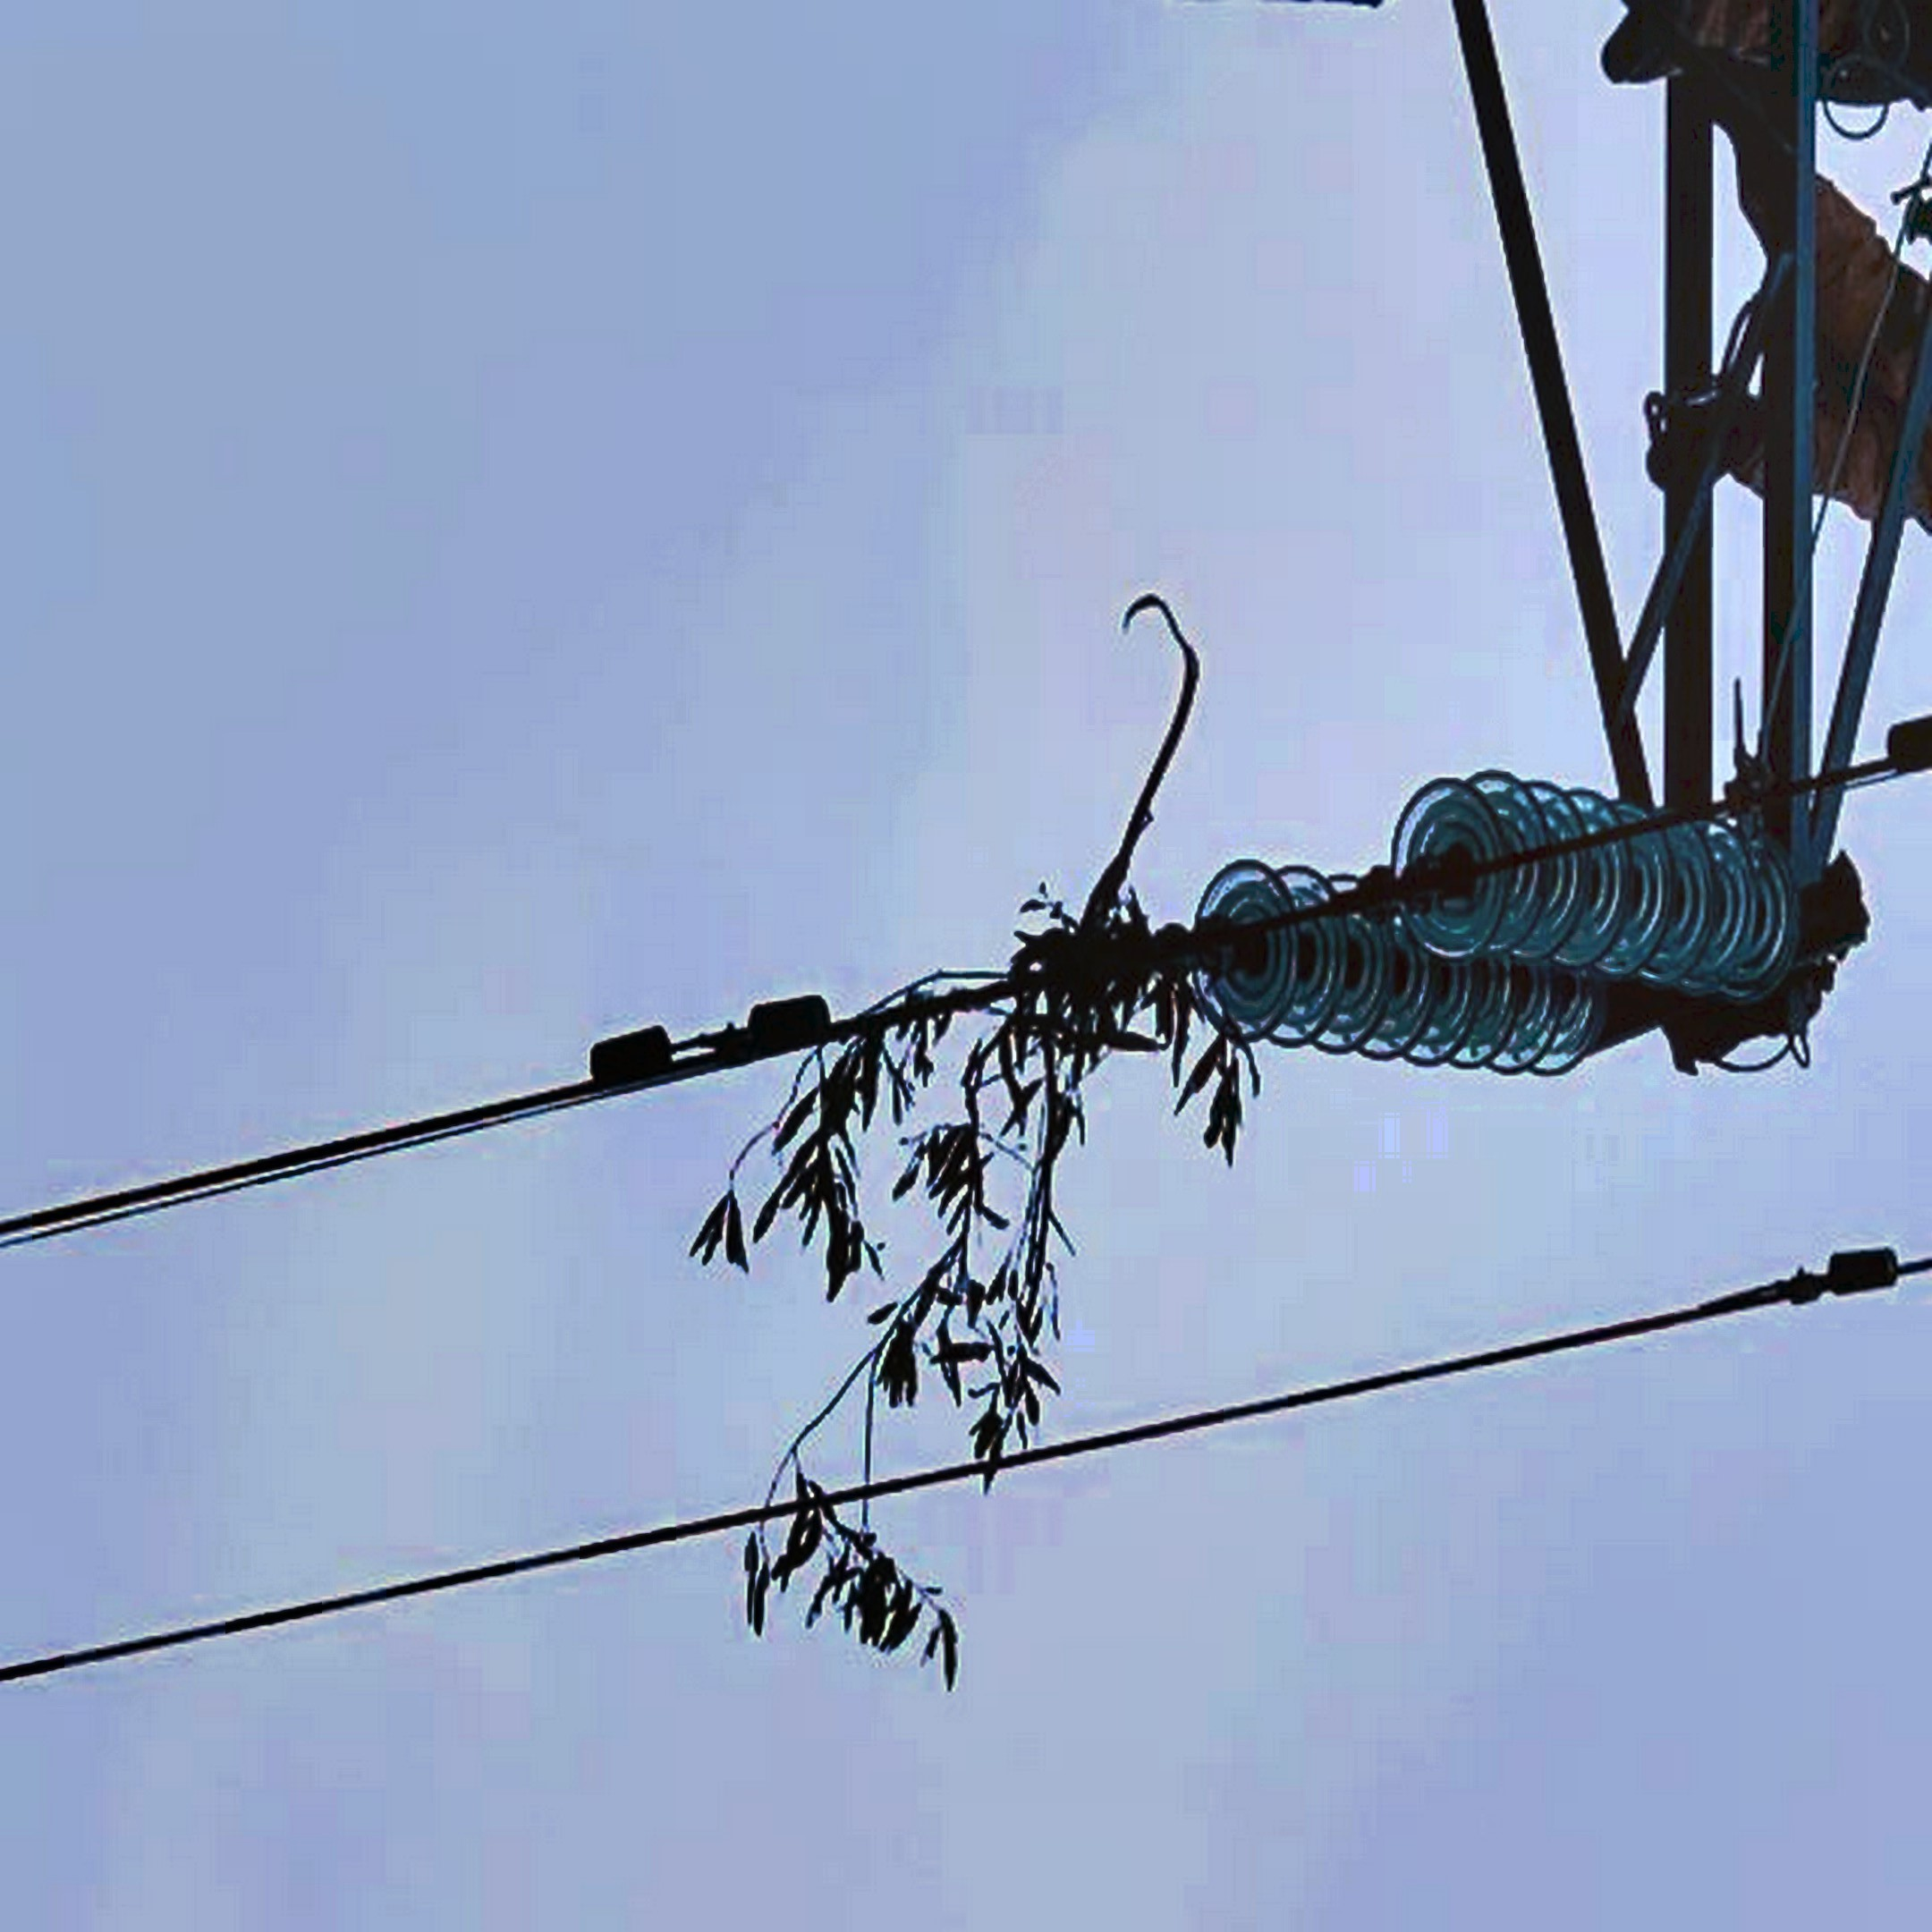wire foreign body: (692, 763, 1256, 1548)
